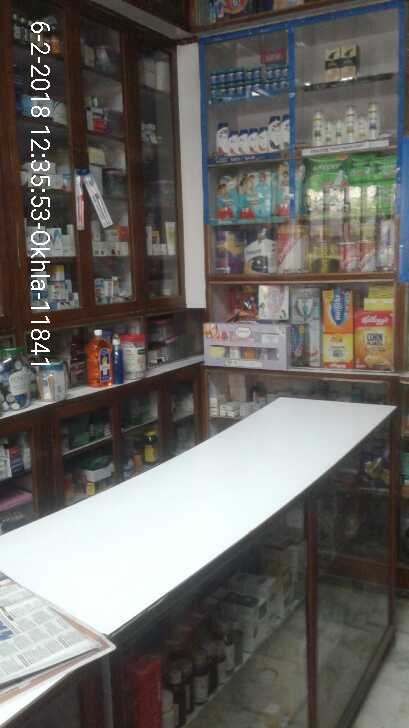vicks: (209, 57, 296, 90)
